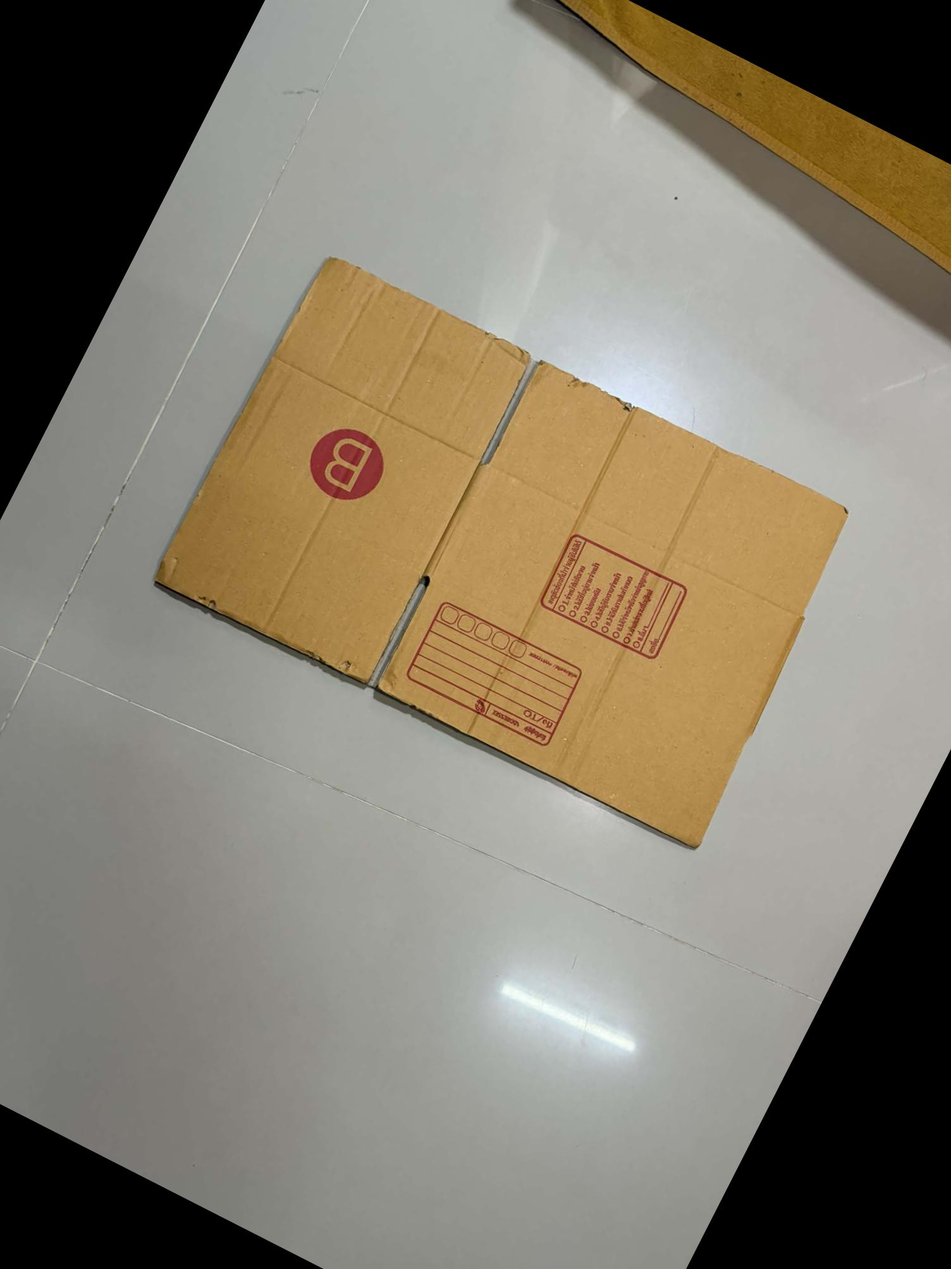box: (402, 593, 590, 751), (533, 529, 691, 664), (298, 413, 399, 515)
class0: (158, 248, 859, 849)
